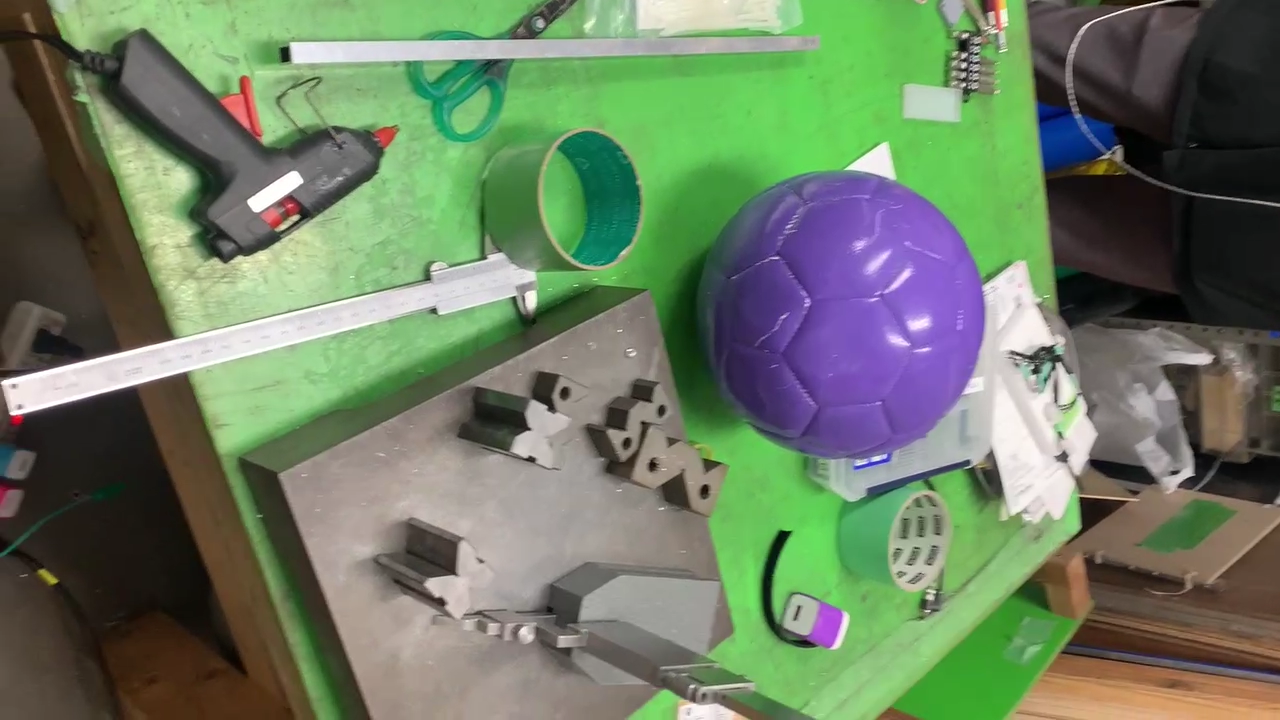purple: (687, 171, 983, 462)
